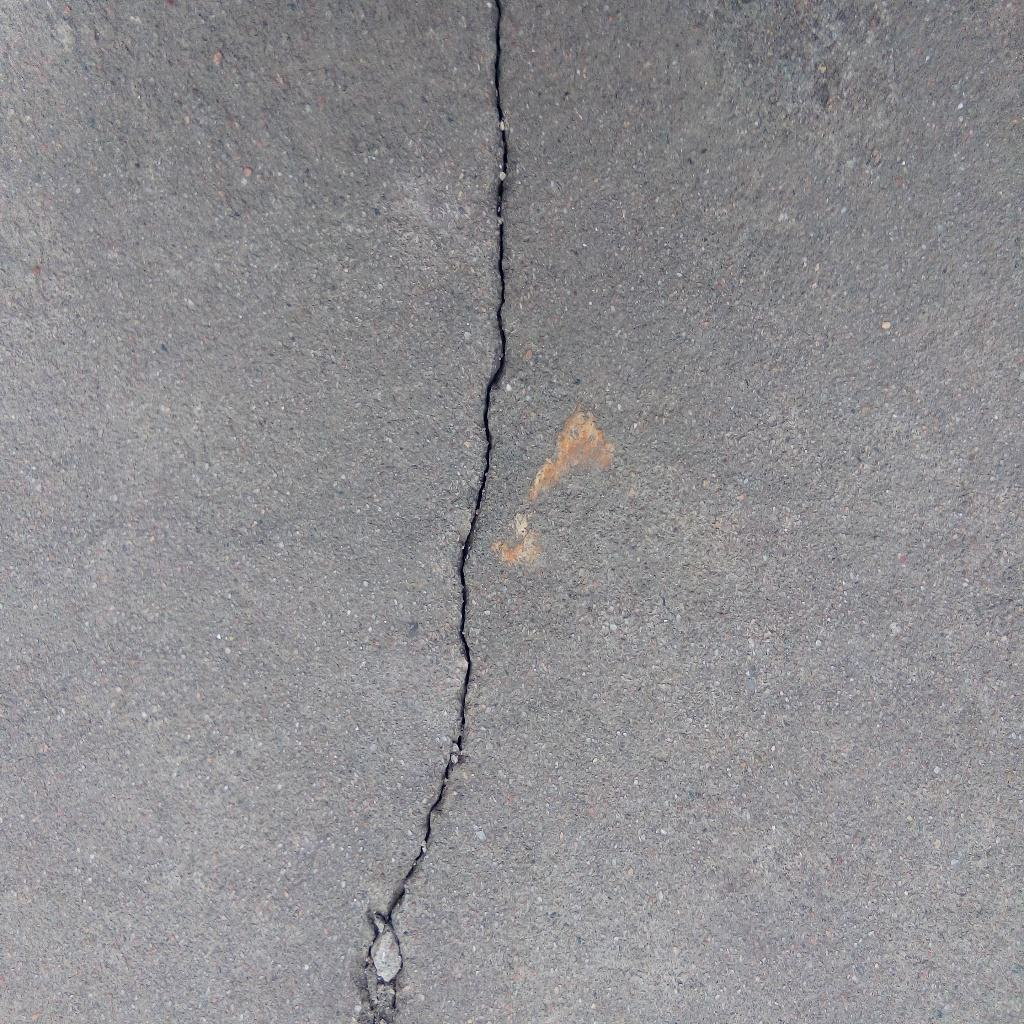Crack: (388, 1, 513, 925)
Spalling: (363, 925, 404, 1024)
